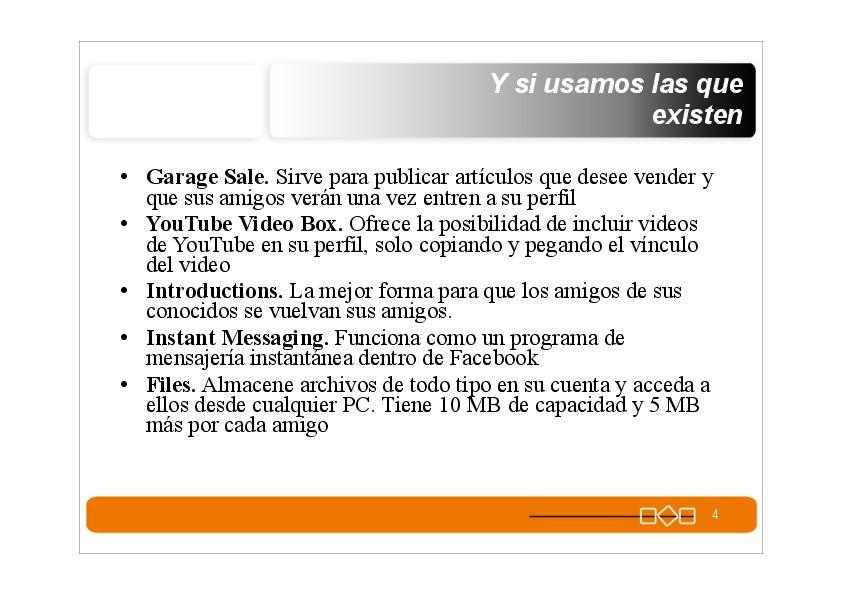paragraph: (112, 157, 738, 446)
title: (482, 64, 761, 140)
